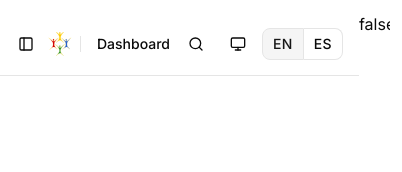
it: <SiteHeader /> › opens the command palette from the compact search button
The width and height of the screenshot is (402, 172).
Click the button named "Search".
click(196, 44)  # box [178,26,214,62]
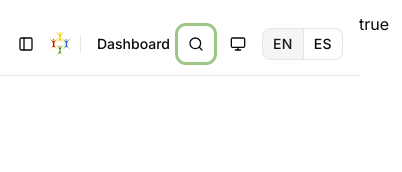
Now the text with test id "palette-open" reads "true", box [359,14,389,34]
